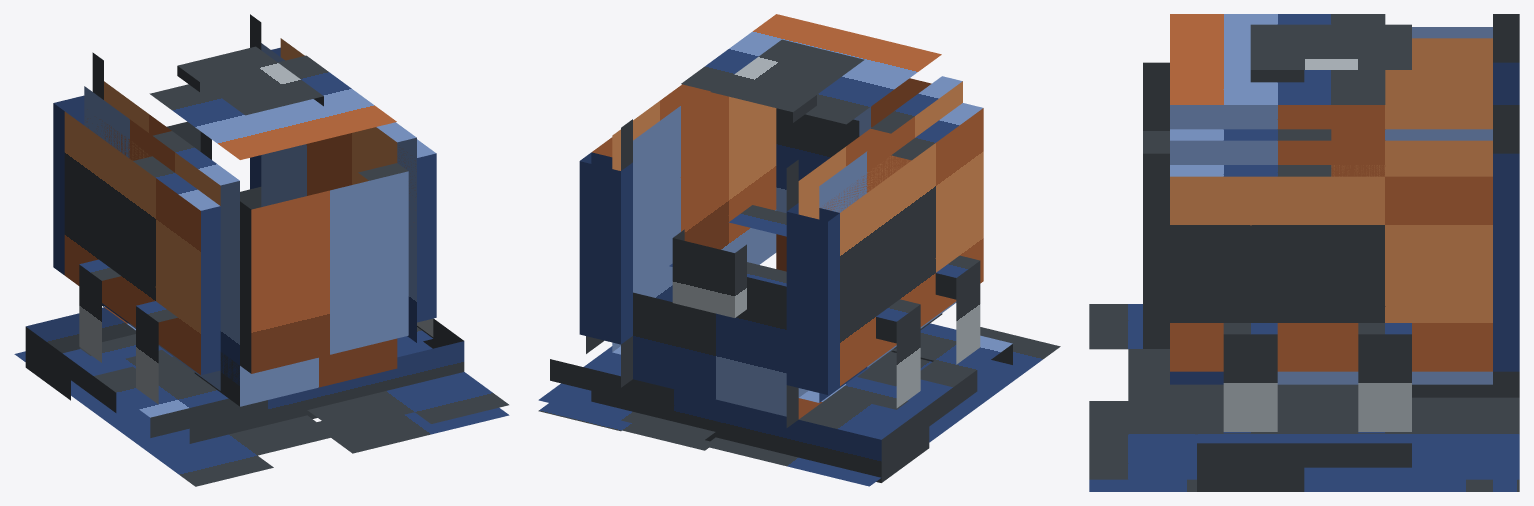
Rendered from elitemotor.obj.
3 renders of one model, left to right at view 1: azimuth 30°, elevation 25°; view 2: azimuth 150°, elevation 25°; view 3: azimuth 270°, elevation 25°, orthographic. The views are drawn at different scales.
Visible parts, largest first — view 1: Motor, RecessedBacking; view 2: Motor, RecessedBacking; view 3: Motor, RecessedBacking.
Part boxes in pixels (bbox=[...]): Motor: bbox=[25, 14, 509, 453]; RecessedBacking: bbox=[14, 341, 508, 486]; Motor: bbox=[538, 14, 1012, 482]; RecessedBacking: bbox=[538, 327, 1060, 486]; Motor: bbox=[1089, 14, 1519, 491]; RecessedBacking: bbox=[1089, 304, 1519, 479].
Bounding box in the file's own units: 1 × 0.9062 × 1.
